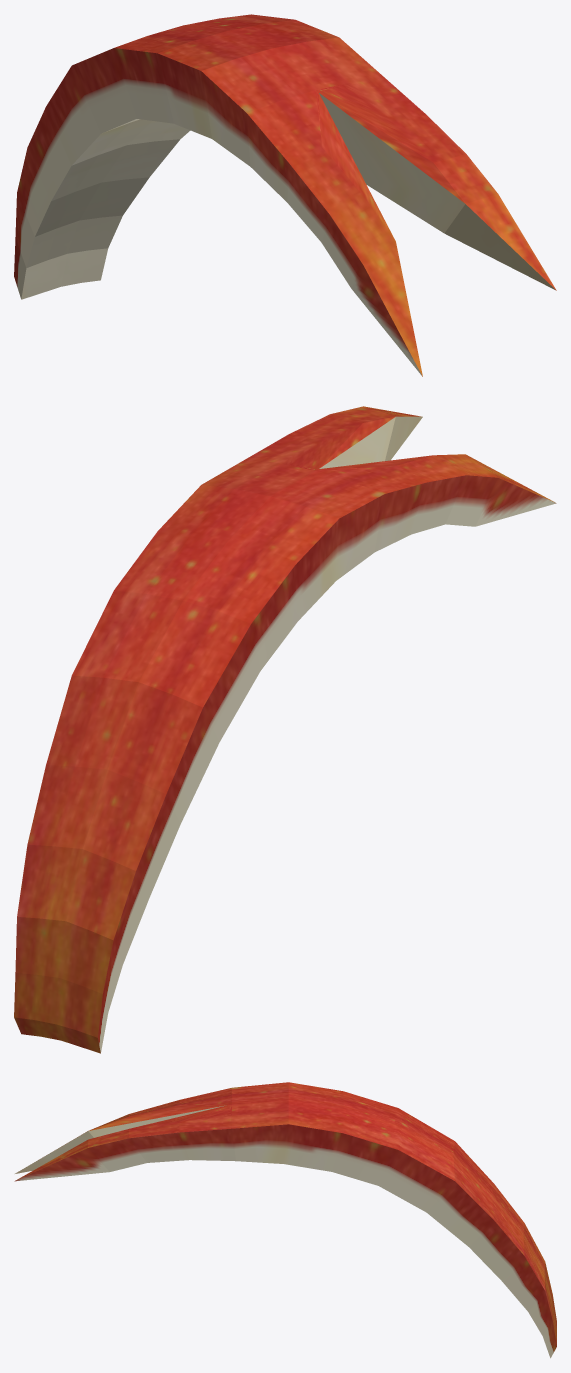
The model's file is ApplePeel_Model.fbx.
3 views of the same model, one above another, from view 1: azimuth 30°, elevation 25°; view 2: azimuth 150°, elevation 25°; view 3: azimuth 270°, elevation 25° (orthographic). The views are drawn at different scales.
Visible parts, largest first — view 1: Circle.003; view 2: Circle.003; view 3: Circle.003.
Part boxes in pixels (x1,y1,x2,y2): Circle.003: (14, 14, 556, 376); Circle.003: (14, 406, 556, 1053); Circle.003: (14, 1082, 556, 1358).
Size of the model in its own units: 223 by 608 by 1212.
Materials: 1 (1 with a texture image).
